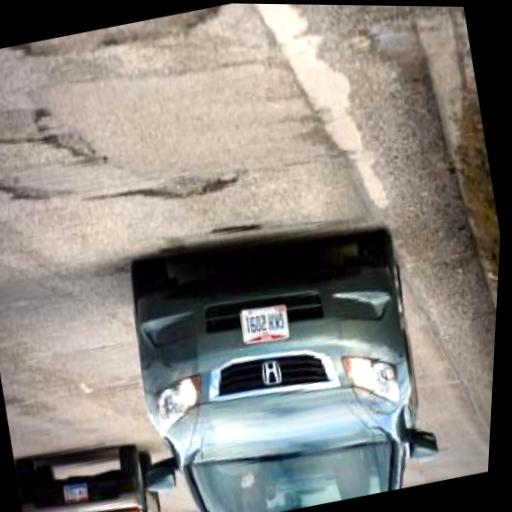pothole: (10, 3, 231, 74), (140, 157, 245, 211)
